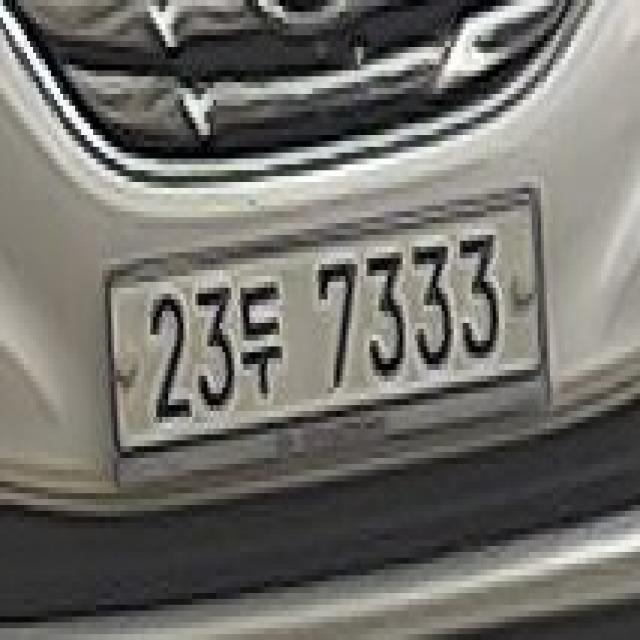2: (141, 281, 200, 427)
3: (453, 218, 509, 368), (190, 277, 241, 422), (364, 237, 413, 384), (410, 232, 459, 374)
7: (310, 245, 363, 393)
du: (236, 271, 290, 407)
license_plate: (107, 190, 549, 451)
